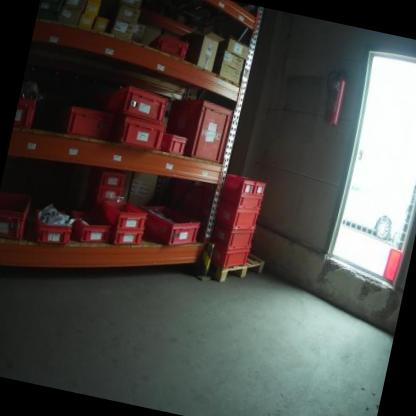pallet: (204, 244, 266, 291)
small_load_carrier: (157, 92, 236, 168), (130, 200, 202, 252), (100, 74, 174, 123), (107, 111, 169, 154), (61, 99, 117, 141), (0, 182, 37, 245), (98, 192, 152, 234), (30, 203, 78, 249), (66, 205, 113, 248), (211, 218, 257, 254), (207, 241, 253, 272), (217, 185, 267, 212), (213, 203, 261, 231), (150, 32, 190, 65), (13, 91, 42, 136), (108, 222, 148, 252), (220, 172, 257, 198), (158, 132, 188, 157), (253, 180, 269, 198)
